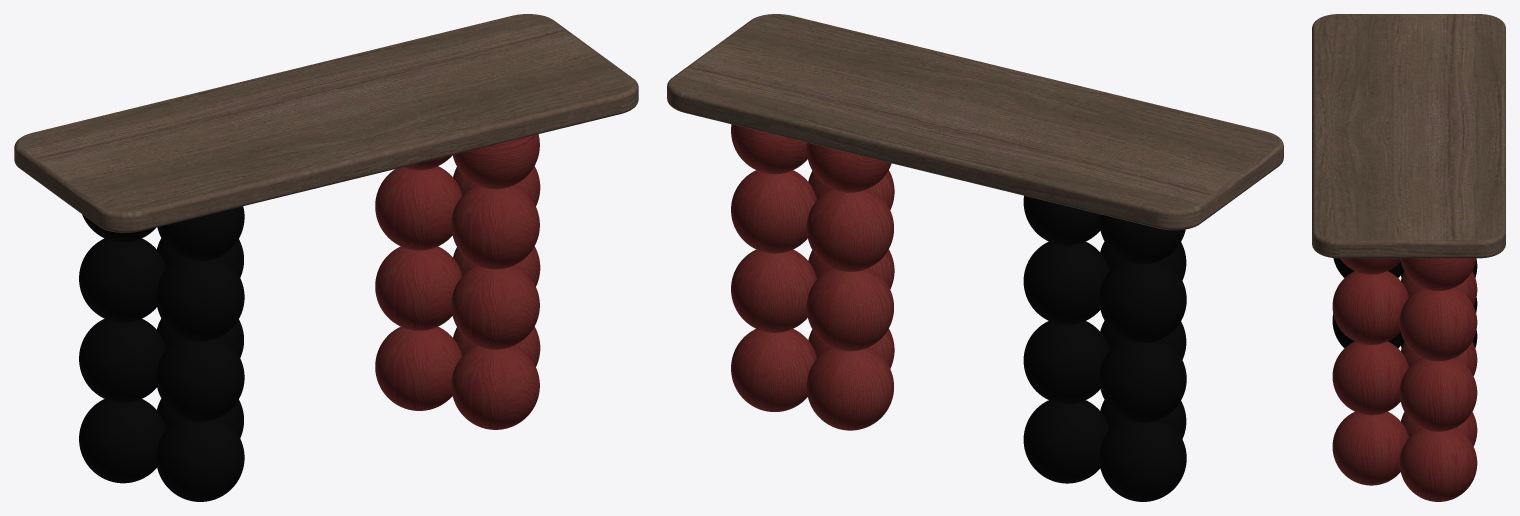
Rendered from SPHERES CONSOLE.glb.
3 views of the same model, side by side, from view 1: azimuth 30°, elevation 25°; view 2: azimuth 150°, elevation 25°; view 3: azimuth 270°, elevation 25° (orthographic). The views are drawn at different scales.
Size of the model in its own units: 1.4 by 0.829 by 0.5.
3 materials, 2 textured.
